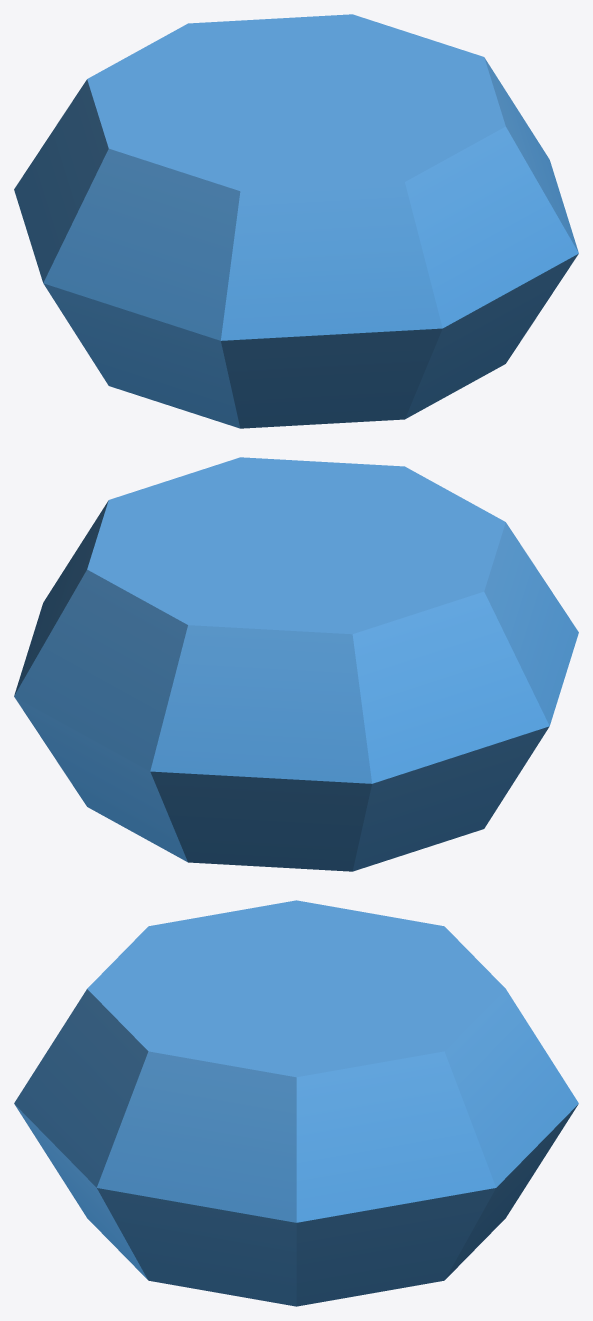
Rendered from Diamond_01.fbx.
3 renders of one model, top to bottom at view 1: azimuth 30°, elevation 25°; view 2: azimuth 150°, elevation 25°; view 3: azimuth 270°, elevation 25°, orthographic. The views are drawn at different scales.
Visible parts, largest first — view 1: Diamond_01_LOD0; view 2: Diamond_01_LOD0; view 3: Diamond_01_LOD0.
Boxes of the visible parts, box(x1,y1,x2,y2) form: Diamond_01_LOD0: box(14, 14, 578, 428); Diamond_01_LOD0: box(14, 457, 578, 871); Diamond_01_LOD0: box(14, 900, 578, 1306).
Size of what is drawn, in the model's own units: 0.0993 by 0.0445 by 0.0993.
